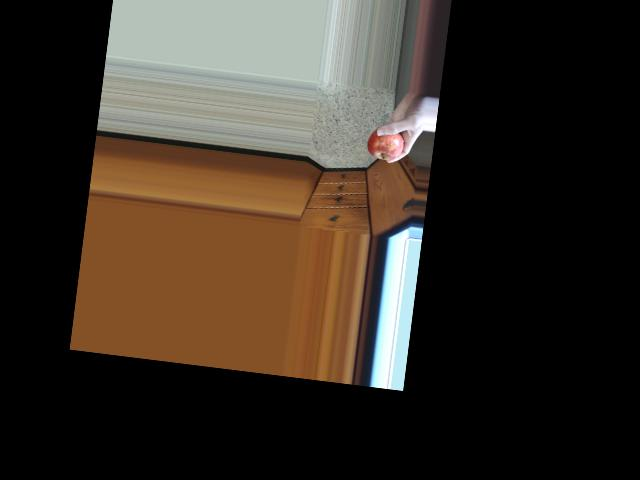apple: (365, 119, 411, 164)
